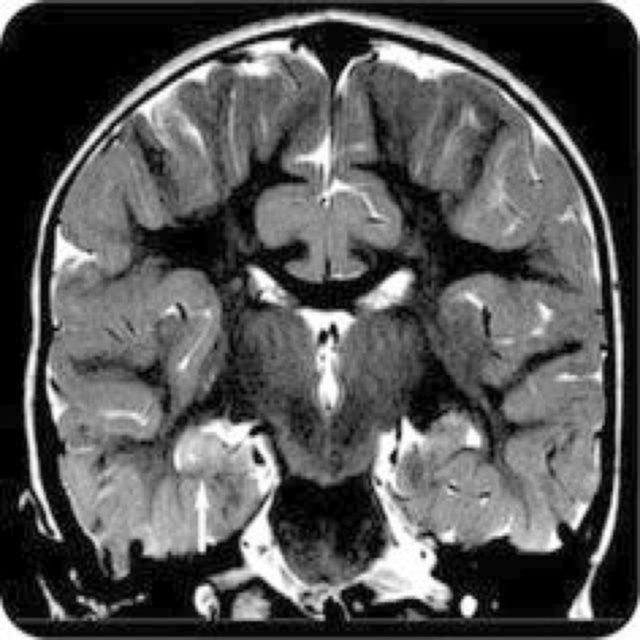glioma tumor: (87, 110, 567, 640)
